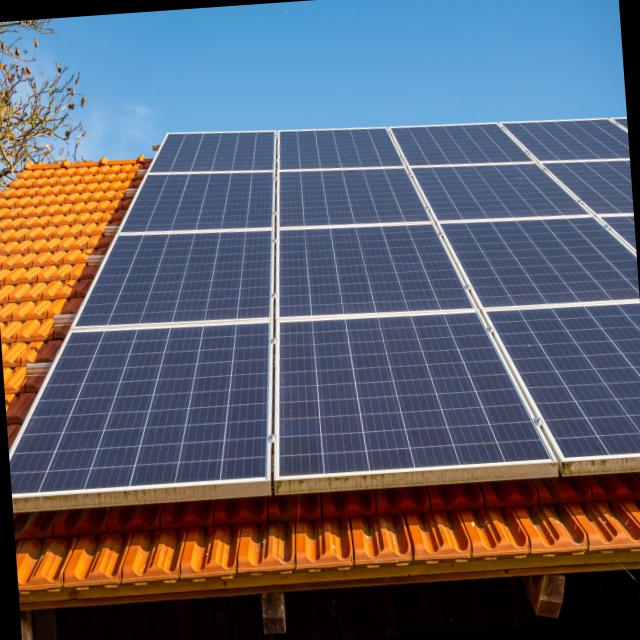no faulty: (9, 117, 640, 488)
